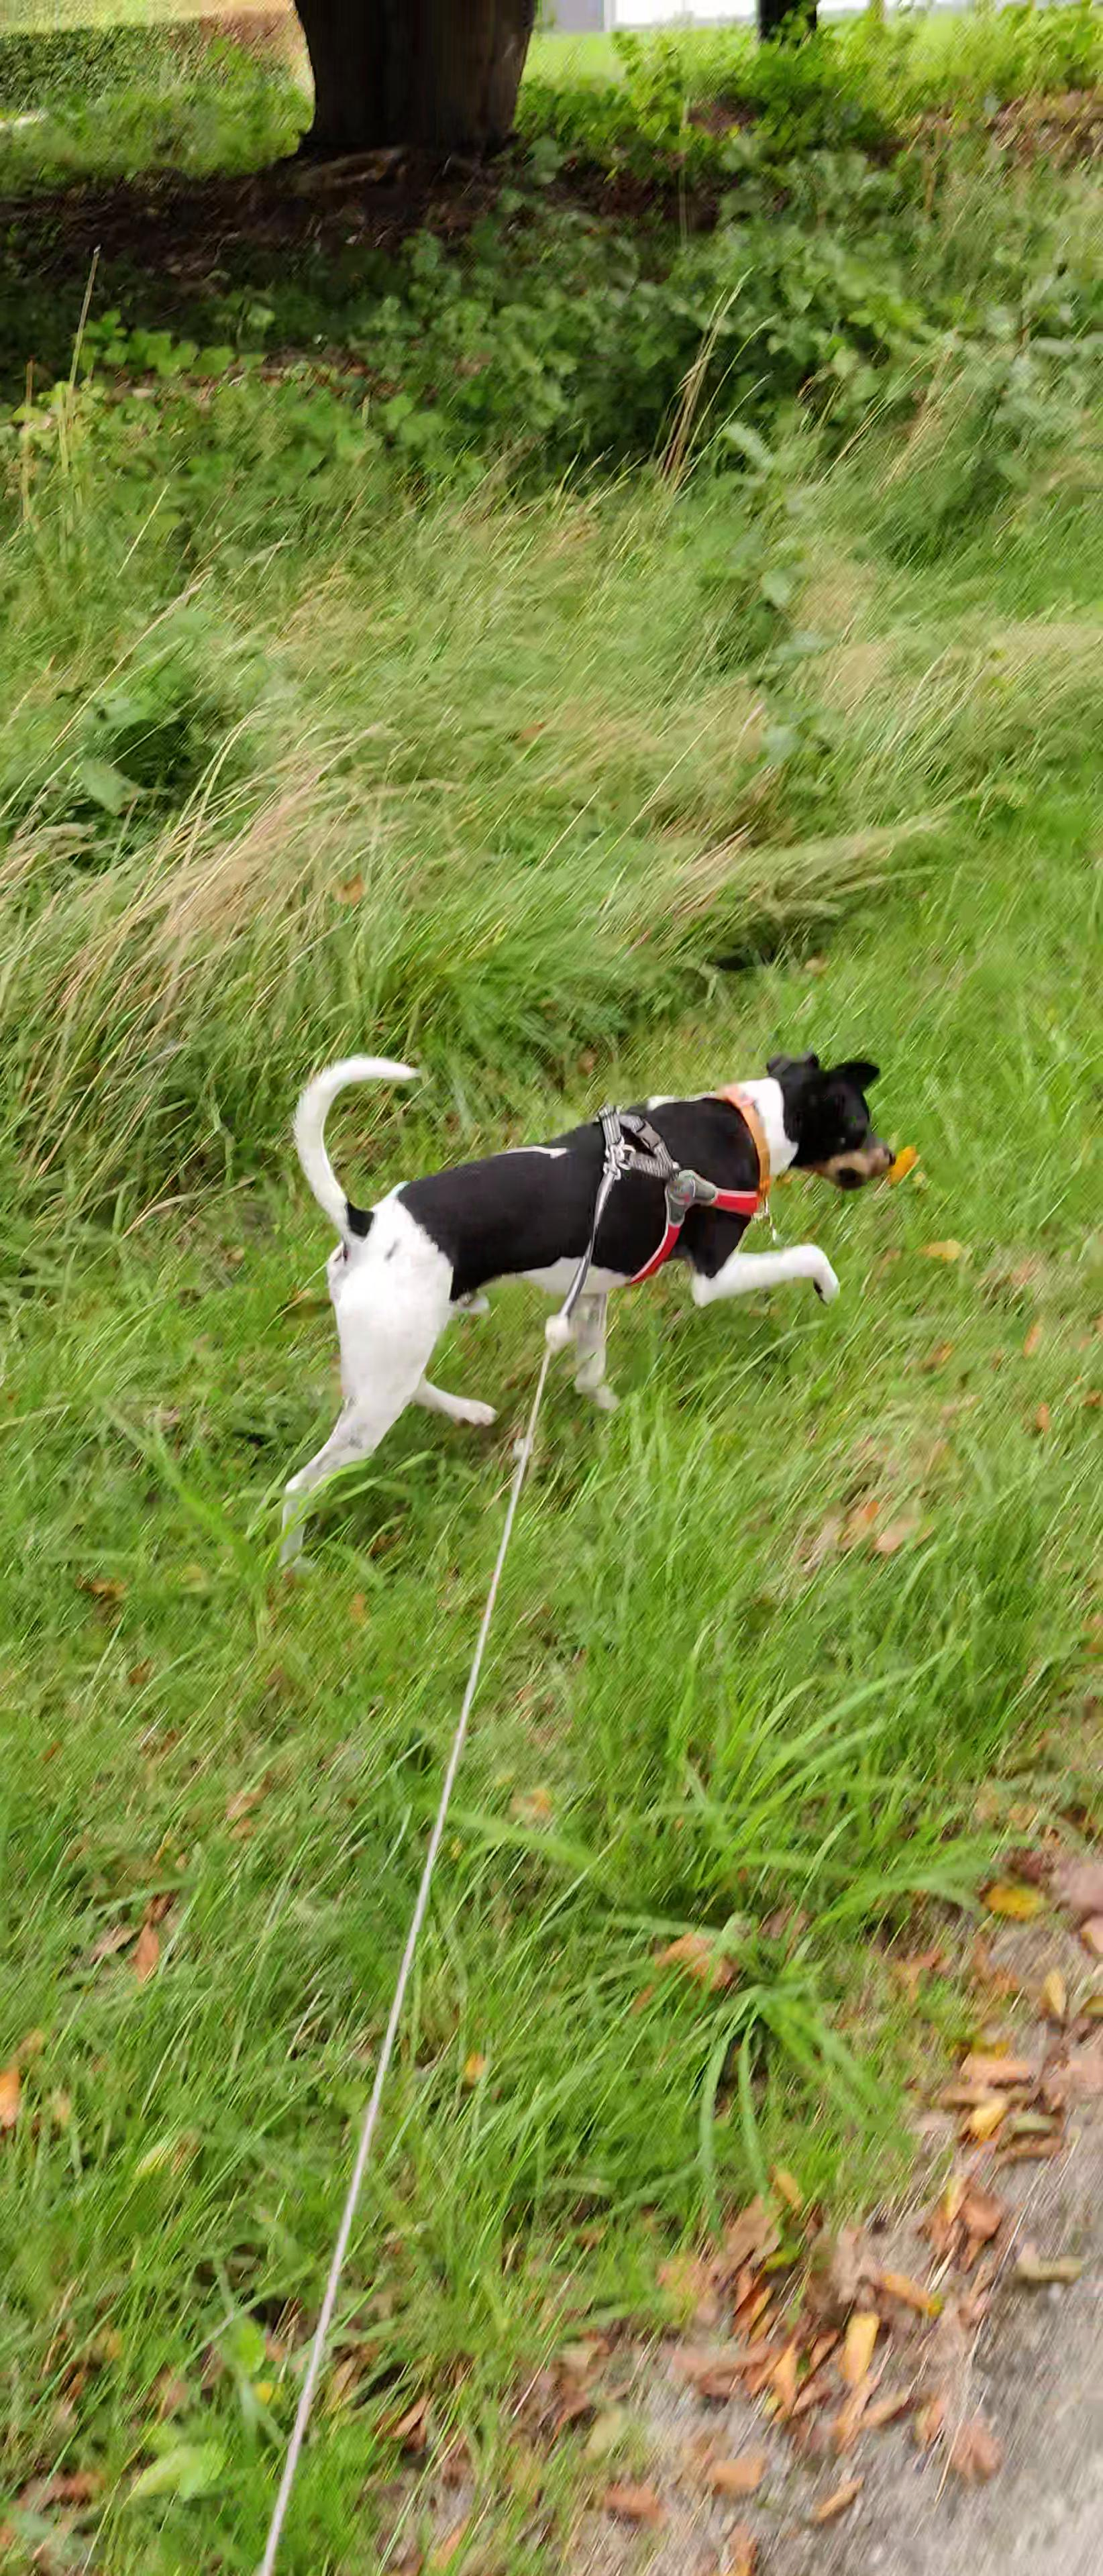Dog: (235, 1040, 898, 1567)
